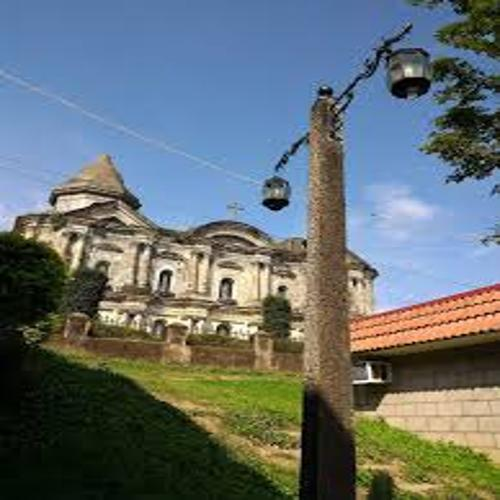Taal Basilica Church: (10, 144, 397, 381)
